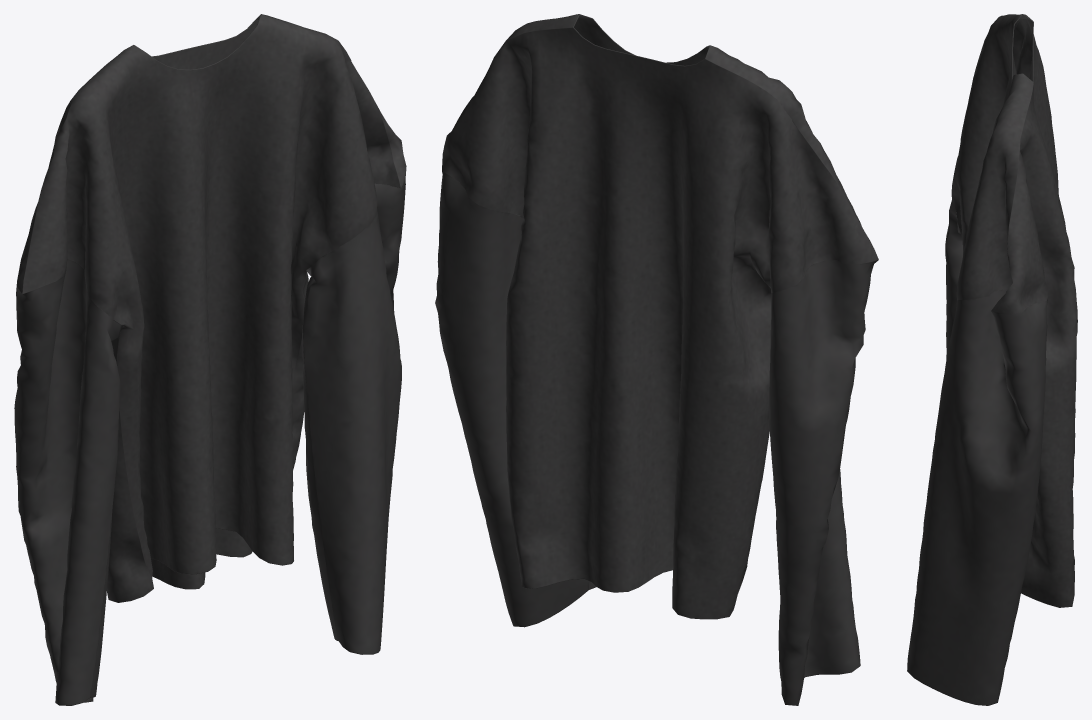
The model's file is FLG_11_01_4.fbx.
The picture shows the model from 3 angles, left to right: view 1: azimuth 30°, elevation 25°; view 2: azimuth 150°, elevation 25°; view 3: azimuth 270°, elevation 25°; orthographic projection. The views are drawn at different scales.
Parts seen in each view (by area): view 1: FLG_11_01_4; view 2: FLG_11_01_4; view 3: FLG_11_01_4.
Boxes of the visible parts, x1,y1,x2,y2 form: FLG_11_01_4: (14,14,406,705); FLG_11_01_4: (435,14,878,705); FLG_11_01_4: (907,14,1077,705).
Bounding box in the file's own units: 66.6 × 99.57 × 25.82.
